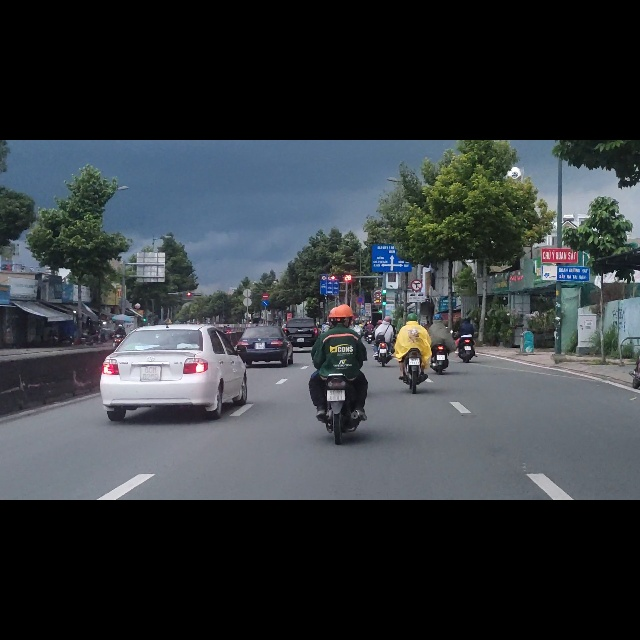bien_hieu_lenh: (320, 248, 339, 275), (410, 248, 423, 269), (356, 277, 364, 290), (262, 271, 269, 283), (261, 285, 269, 295)
